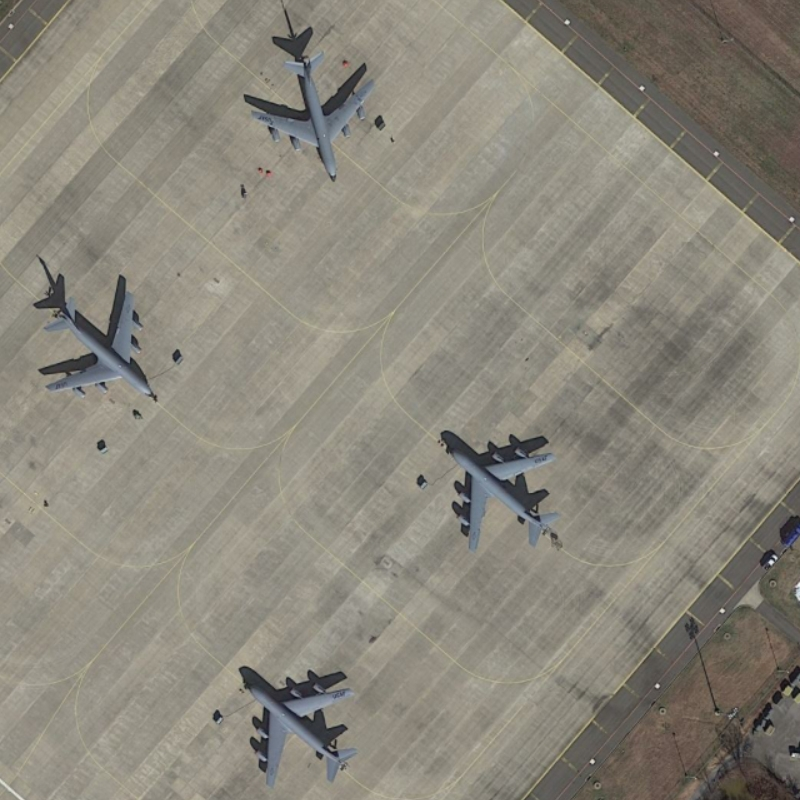A14: (243, 48, 387, 189), (438, 432, 567, 553), (236, 667, 363, 786), (42, 281, 163, 405)
